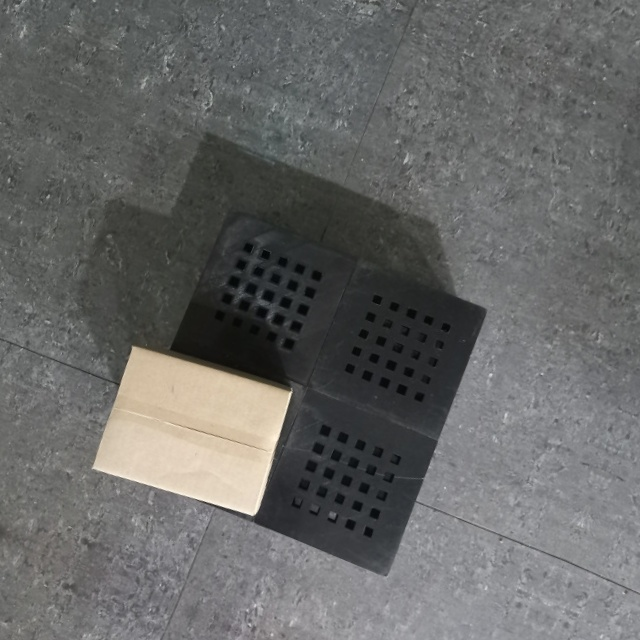box: (89, 340, 295, 519)
pallet: (109, 200, 496, 582)
